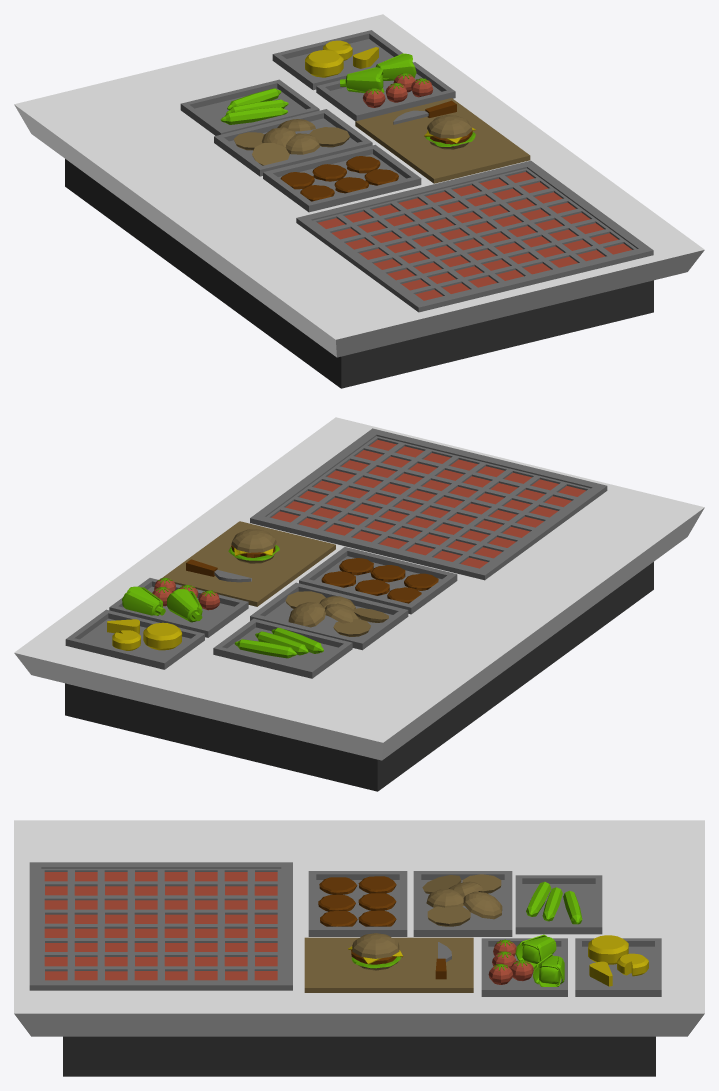
The model's file is PovarStol.fbx.
The picture shows the model from 3 angles, top to bottom: view 1: azimuth 30°, elevation 25°; view 2: azimuth 150°, elevation 25°; view 3: azimuth 270°, elevation 25°; orthographic projection. The views are drawn at different scales.
Parts seen in each view (by area): view 1: pCube1, pCube3, pCube2, pCube4, pCube5, pCube7, pCube6, pCube8, pCylinder5, polySurface23, pCube16, pCylinder1 (+5 smaller); view 2: pCube1, pCube3, pCube2, pCube7, pCube4, pCube8, pCube5, pCube6, pCube17, pCylinder5, pCube16, polySurface23 (+3 smaller); view 3: pCube1, pCube3, pCube2, pCube7, pCube4, pCube5, pCube8, pCube6, polySurface23, pCylinder5, pCube16, pCube17 (+17 smaller).
Part boxes in pixels (x1=…): pCube1: x1=14, y1=14, x2=704, y2=388; pCube3: x1=296, y1=160, x2=653, y2=312; pCube2: x1=355, y1=98, x2=530, y2=183; pCube4: x1=263, y1=144, x2=421, y2=212; pCube5: x1=214, y1=109, x2=372, y2=176; pCube7: x1=180, y1=79, x2=319, y2=135; pCube6: x1=316, y1=62, x2=455, y2=121; pCube8: x1=272, y1=30, x2=402, y2=90; pCylinder5: x1=305, y1=50, x2=343, y2=77; polySurface23: x1=427, y1=115, x2=472, y2=138; pCube16: x1=340, y1=67, x2=384, y2=93; pCylinder1: x1=220, y1=107, x2=287, y2=124; pCube1: x1=14, y1=417, x2=704, y2=791; pCube3: x1=250, y1=428, x2=607, y2=580; pCube2: x1=162, y1=521, x2=335, y2=606; pCube7: x1=213, y1=618, x2=352, y2=678; pCube4: x1=299, y1=547, x2=457, y2=614; pCube8: x1=65, y1=609, x2=204, y2=669; pCube5: x1=250, y1=582, x2=408, y2=650; pCube6: x1=109, y1=578, x2=248, y2=637; pCube17: x1=122, y1=586, x2=165, y2=615; pCylinder5: x1=143, y1=622, x2=182, y2=650; pCube16: x1=167, y1=588, x2=202, y2=622; polySurface23: x1=231, y1=529, x2=276, y2=552; pCube1: x1=14, y1=820, x2=704, y2=1076; pCube3: x1=29, y1=862, x2=292, y2=990; pCube2: x1=304, y1=937, x2=473, y2=992; pCube7: x1=515, y1=875, x2=602, y2=934; pCube4: x1=308, y1=871, x2=407, y2=936; pCube5: x1=413, y1=871, x2=512, y2=936; pCube8: x1=575, y1=938, x2=661, y2=996; pCube6: x1=481, y1=938, x2=567, y2=996; polySurface23: x1=352, y1=933, x2=399, y2=958; pCylinder5: x1=588, y1=935, x2=628, y2=964; pCube16: x1=515, y1=934, x2=556, y2=968; pCube17: x1=533, y1=954, x2=564, y2=986.
Bounding box in the file's own units: 24.68 × 6.47 × 37.26.
